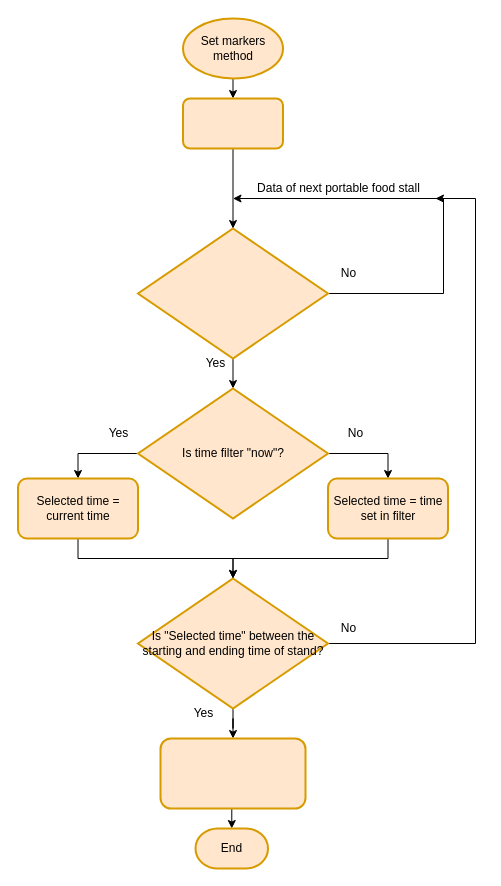
This 501x886 diagram has some shape labels left out. Here are the shapes that lost their labels. From the top down, the centre of each, then its label:
(233,123): Clear all markers on the map
(232,293): Is type filter empty or selected type is "any" or matches stall's type?
(232,773): Add a marker to the map with position information of the stall
